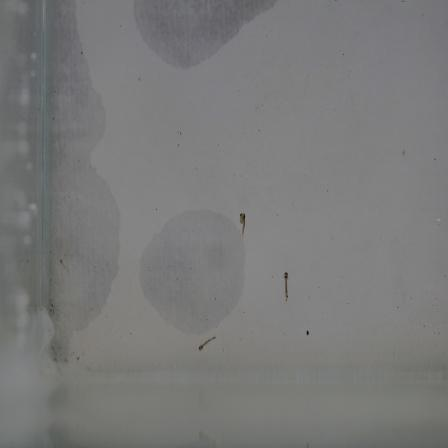Jentik-Nyamuk: (280, 268, 294, 309), (196, 333, 221, 354), (235, 207, 251, 237)
